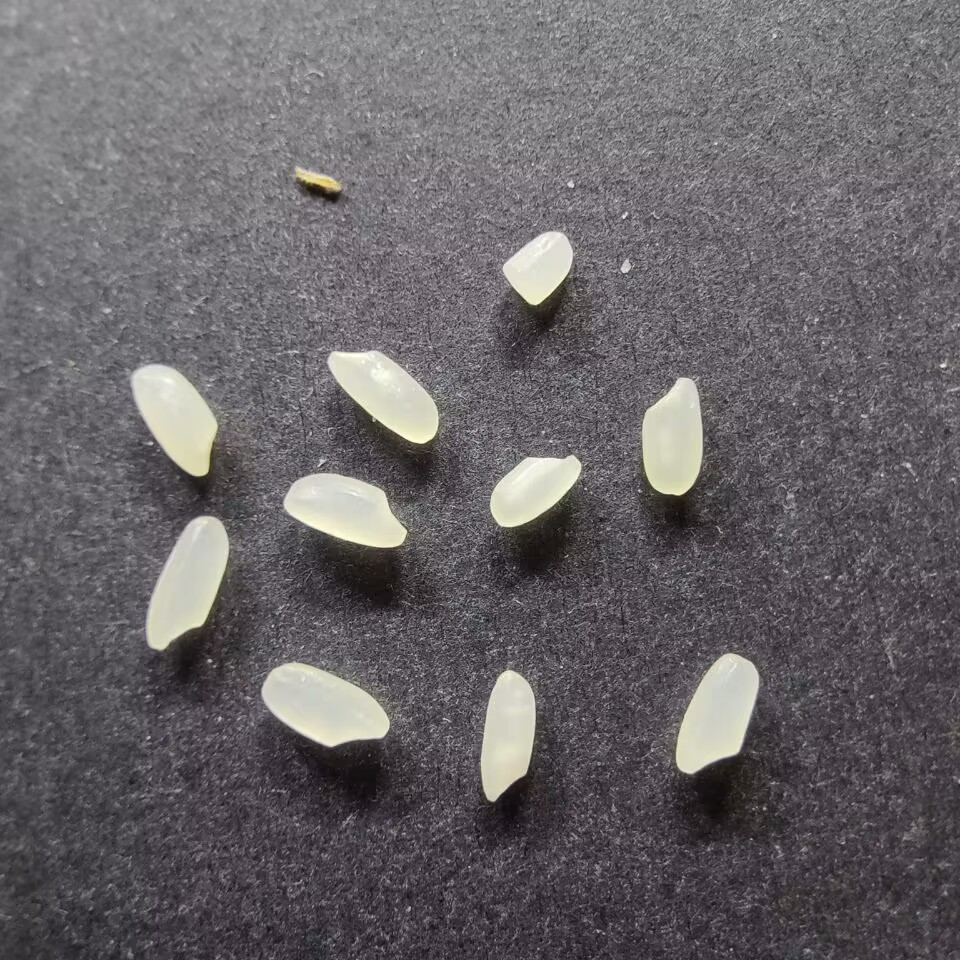broken: (500, 229, 574, 307)
others: (289, 159, 349, 197)
rice: (144, 513, 231, 654), (323, 346, 443, 446), (260, 660, 390, 749), (673, 651, 763, 776), (128, 362, 220, 478), (282, 471, 409, 549), (477, 667, 540, 803), (641, 373, 705, 499), (487, 451, 584, 529)
